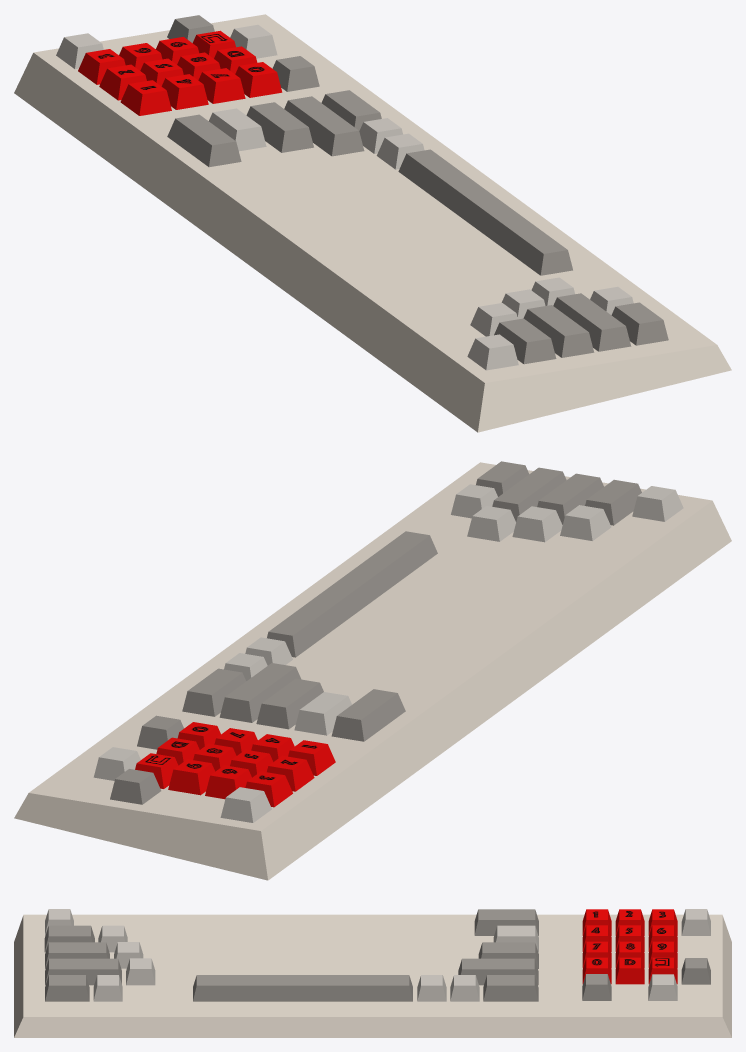
The model's file is keyborb.glb.
The picture shows the model from 3 angles, top to bottom: view 1: azimuth 30°, elevation 25°; view 2: azimuth 150°, elevation 25°; view 3: azimuth 270°, elevation 25°; orthographic projection. The views are drawn at different scales.
Parts seen in each view (by area): view 1: toprowkeys.008, numpad, space, key.004, key.003, key.008, key.002, key.007, key.006, key.005, key.001, toprowkeys.003 (+11 smaller); view 2: toprowkeys.008, numpad, space, key.003, key.004, key.002, toprowkeys.007, key.008, key.001, key.007, key.006, toprowkeys (+11 smaller); view 3: toprowkeys.008, numpad, space, toprowkeys.007, key.004, key.008, key.003, key.005, key.007, key.002, key.006, key.001 (+11 smaller).
Part boxes in pixels (box(x1,y1,x2,y2)): toprowkeys.008: box(14, 14, 731, 432); numpad: box(78, 30, 282, 115); space: box(398, 149, 572, 275); key.004: box(284, 96, 364, 156); key.003: box(167, 114, 241, 167); key.008: box(553, 293, 631, 351); key.002: box(246, 102, 313, 152); key.007: box(523, 305, 594, 357); key.006: box(494, 318, 556, 364); key.005: box(611, 302, 668, 345); key.001: box(209, 108, 266, 151); toprowkeys.003: box(467, 334, 518, 370); toprowkeys.008: box(14, 462, 731, 880); numpad: box(135, 722, 335, 807); space: box(267, 531, 437, 657); key.003: box(331, 689, 405, 741); key.004: box(219, 663, 301, 722); key.002: box(256, 678, 323, 729); toprowkeys.007: box(182, 668, 246, 716); key.008: box(492, 467, 566, 521); key.001: box(294, 692, 351, 735); key.007: box(537, 473, 603, 524); key.006: box(585, 479, 641, 525); toprowkeys: box(560, 505, 611, 540); toprowkeys.008: box(14, 914, 731, 1037); numpad: box(582, 909, 677, 984); space: box(193, 975, 412, 1001); toprowkeys.007: box(483, 975, 538, 1001); key.004: box(458, 958, 538, 985); key.008: box(45, 958, 121, 985); key.003: box(474, 909, 538, 935); key.005: box(45, 975, 89, 1001); key.007: box(45, 942, 109, 968); key.002: box(478, 942, 538, 968); key.006: box(44, 925, 94, 952); key.001: box(493, 925, 538, 952).
Bounding box in the file's own units: 1.43 × 0.3203 × 4.54.
Materials: 4 (1 with a texture image).
